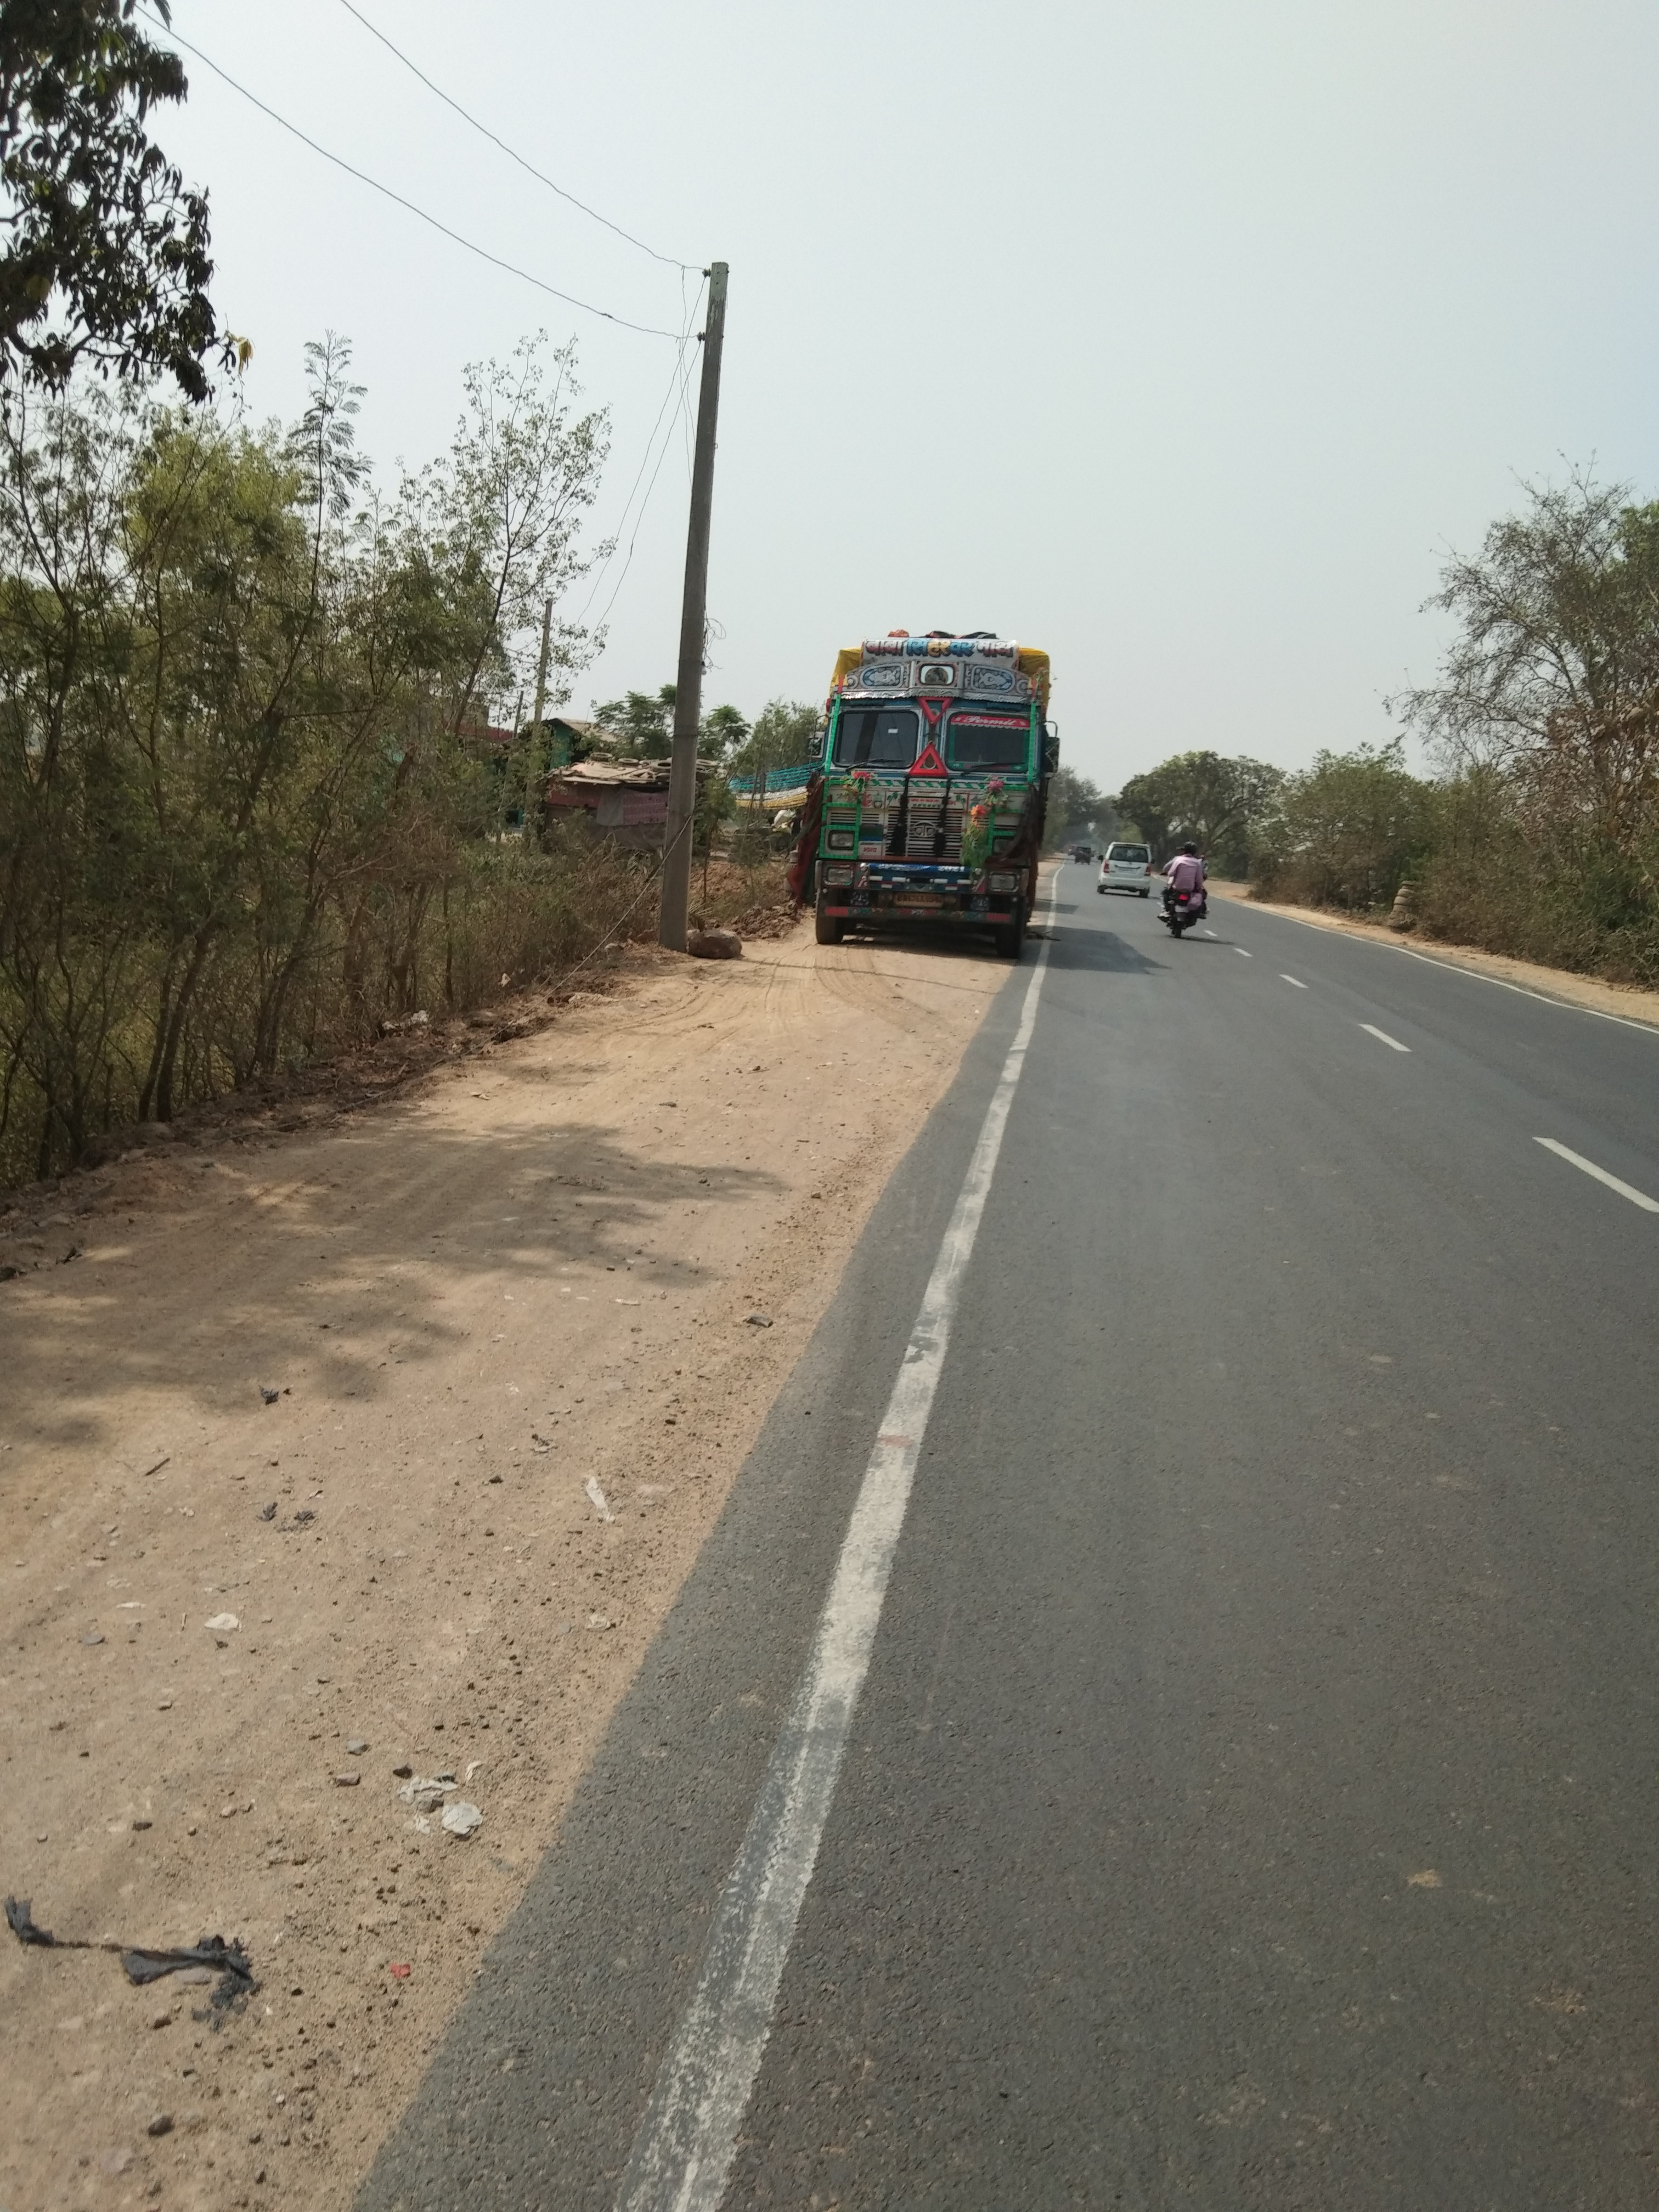truck: (805, 627, 1061, 960)
